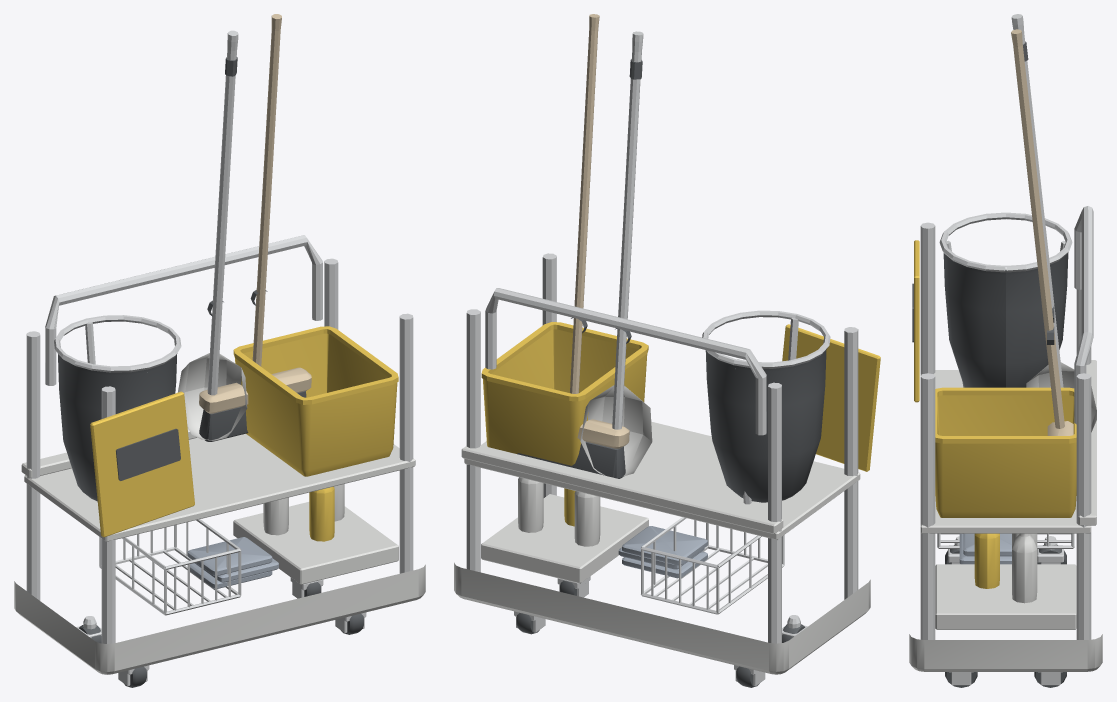
File: laundrette-and-cleaning-janitorial-trolley-c229f2b8__25566.glb
3 views of the same model, side by side, from view 1: azimuth 30°, elevation 25°; view 2: azimuth 150°, elevation 25°; view 3: azimuth 270°, elevation 25° (orthographic). The views are drawn at different scales.
Visible parts, largest first — view 1: janitorial-trolley; view 2: janitorial-trolley; view 3: janitorial-trolley.
Part boxes in pixels (bbox=[...]): janitorial-trolley: bbox=[14, 14, 425, 687]; janitorial-trolley: bbox=[454, 14, 880, 687]; janitorial-trolley: bbox=[909, 14, 1102, 687].
Bounding box in the file's own units: 1.08 × 1.87 × 0.52.
